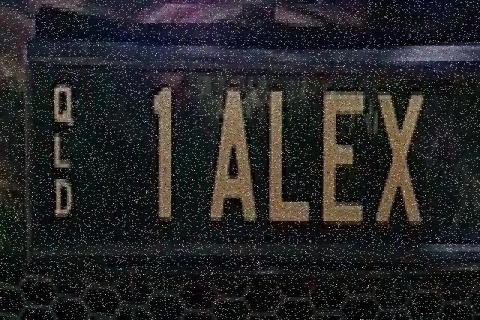LicensePlate: (10, 15, 480, 305)
